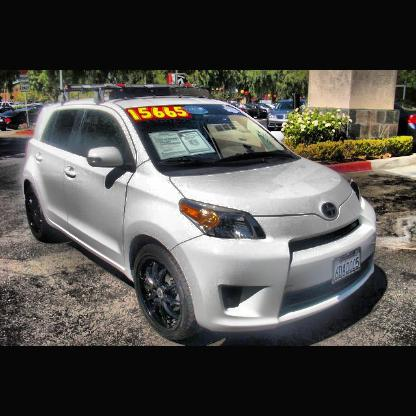Scion xD Hatchback 2012: (21, 84, 383, 345)
